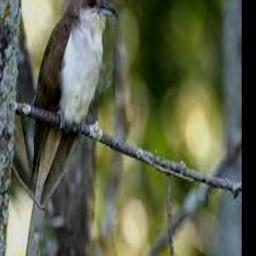Cuckoo: (21, 0, 119, 256)
